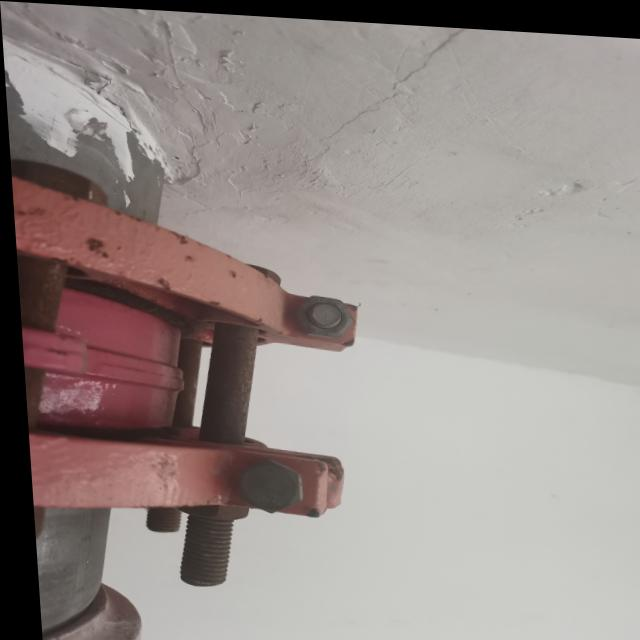Regular bolt: (232, 456, 299, 513), (292, 291, 352, 336)
Rusty bolt: (10, 161, 106, 205), (173, 500, 242, 519), (248, 262, 280, 280)
